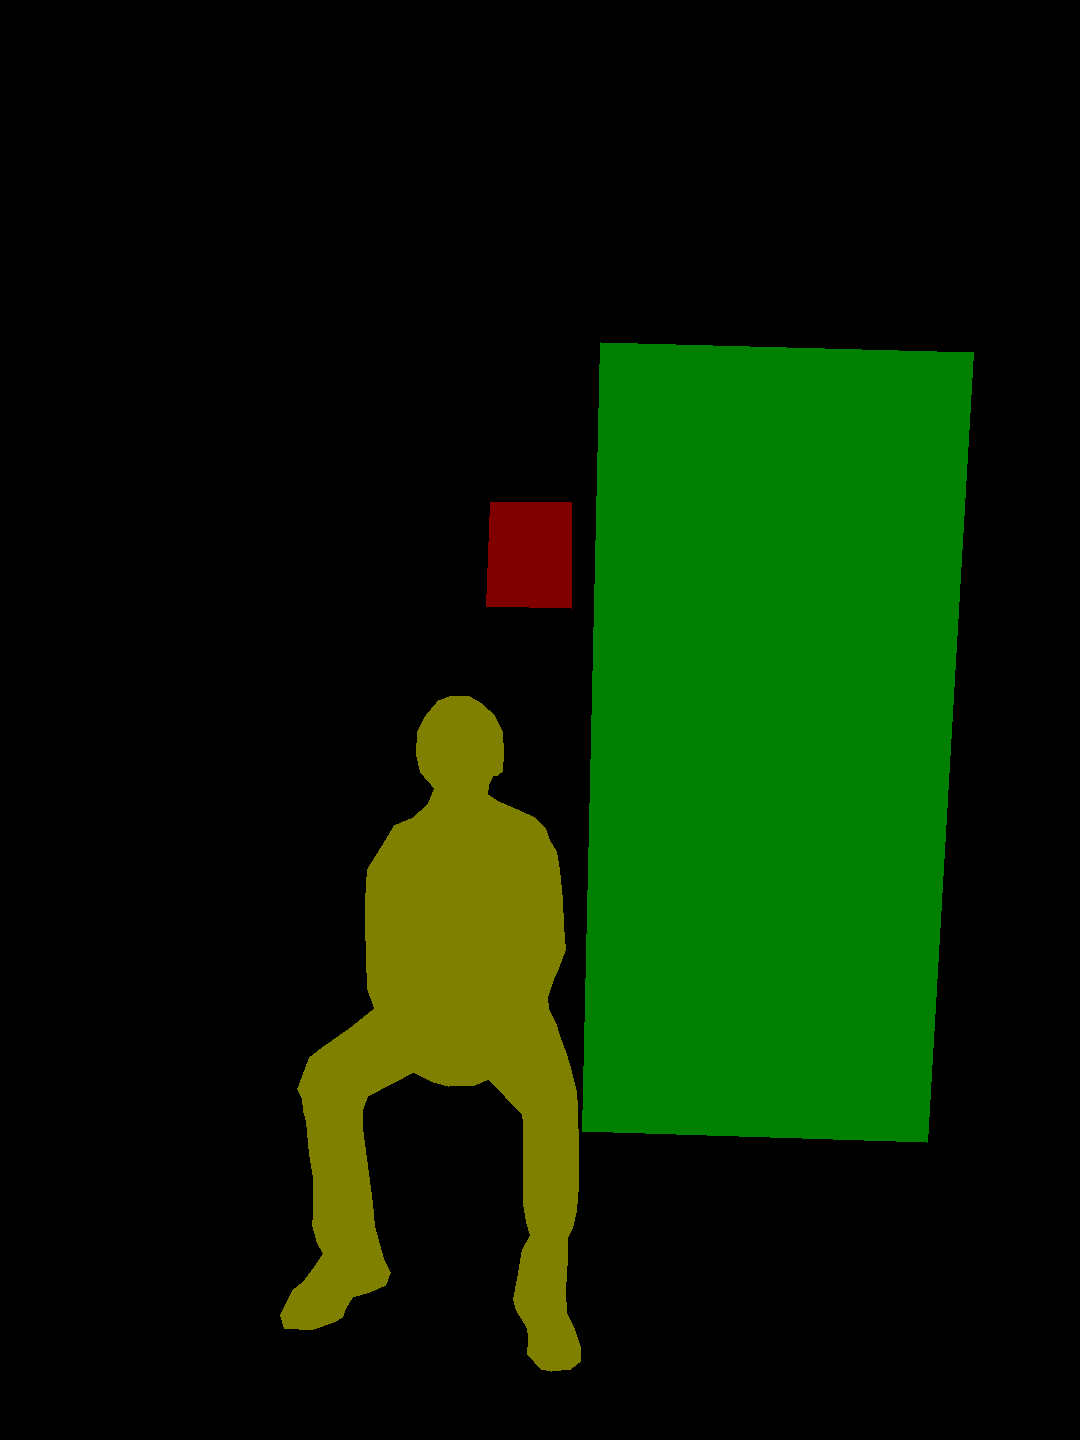door: (582, 342, 973, 1142)
person: (280, 696, 580, 1371)
sign: (675, 598, 869, 675), (486, 502, 571, 608)
